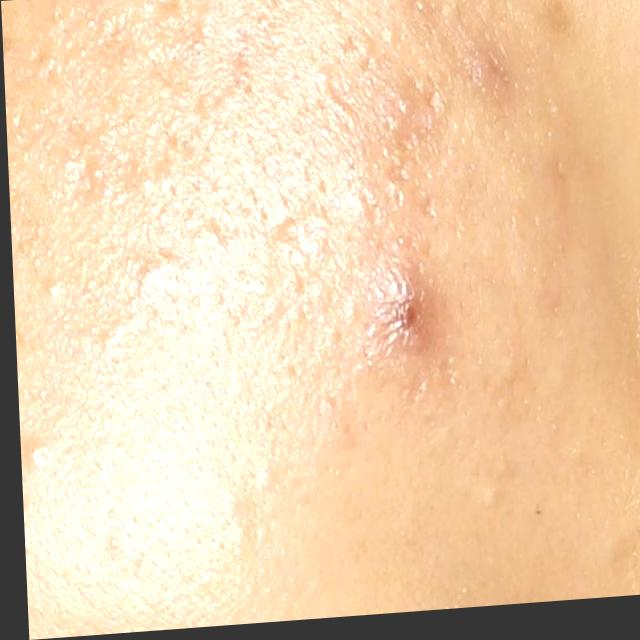blackheads: (376, 286, 429, 369)
